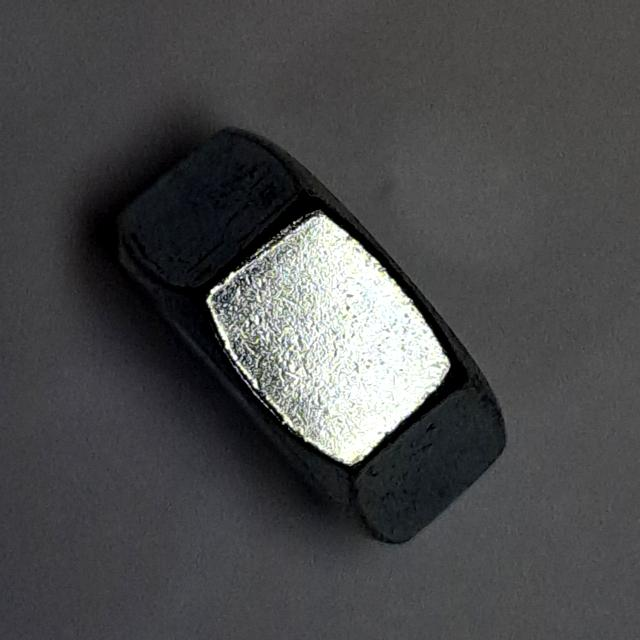Side_Excellent: (107, 120, 525, 555)
